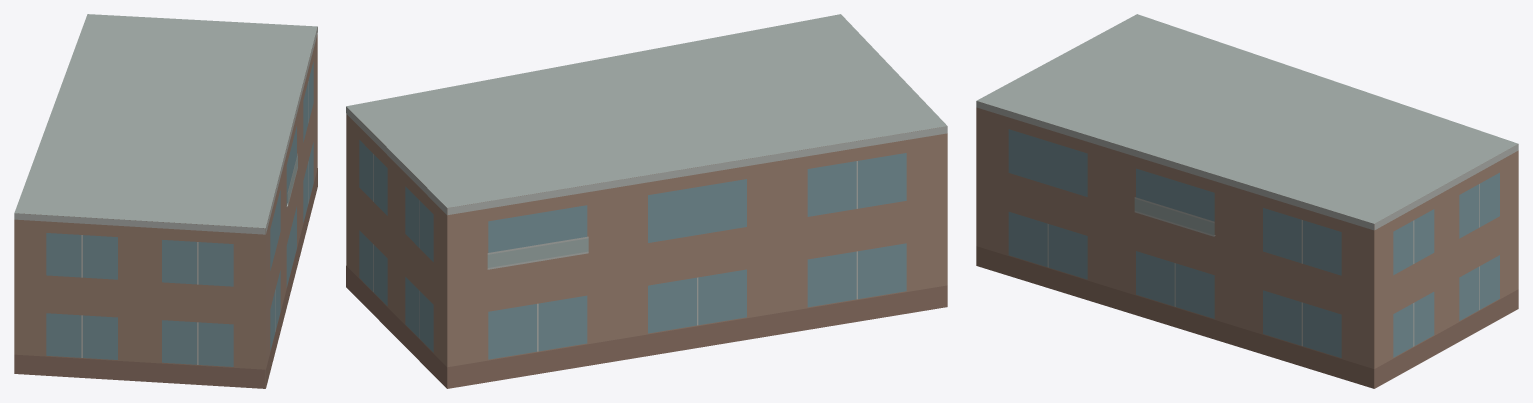
Rendered from survey-upis-32885552.glb.
3 views of the same model, side by side, from view 1: azimuth 30°, elevation 25°; view 2: azimuth 150°, elevation 25°; view 3: azimuth 270°, elevation 25° (orthographic). The views are drawn at different scales.
Parts seen in each view (by area): view 1: survey-upis-32885552.tmp; view 2: survey-upis-32885552.tmp; view 3: survey-upis-32885552.tmp.
Part boxes in pixels (left/top/right/bottom): survey-upis-32885552.tmp: left=14, top=14, right=317, bottom=388; survey-upis-32885552.tmp: left=346, top=14, right=947, bottom=388; survey-upis-32885552.tmp: left=976, top=14, right=1518, bottom=388.
Bounding box in the file's own units: 16.65 × 6.1 × 18.18.
